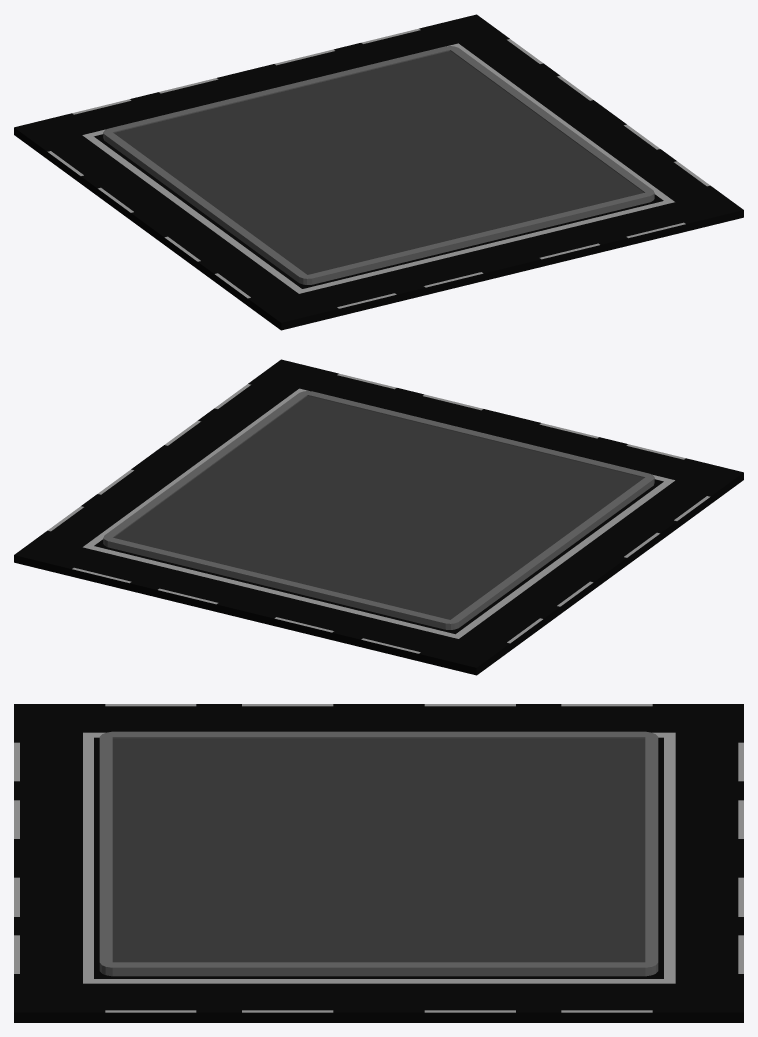
Rendered from BuildingBase.glb.
The picture shows the model from 3 angles, top to bottom: view 1: azimuth 30°, elevation 25°; view 2: azimuth 150°, elevation 25°; view 3: azimuth 270°, elevation 25°; orthographic projection. The views are drawn at different scales.
Visible parts, largest first — view 1: SideWalk-col, Street-col; view 2: SideWalk-col, Street-col; view 3: SideWalk-col, Street-col.
Boxes of the visible parts, x1,y1,x2,y2 form: SideWalk-col: [103, 46, 654, 284]; Street-col: [14, 14, 743, 330]; SideWalk-col: [103, 391, 654, 629]; Street-col: [14, 359, 743, 675]; SideWalk-col: [99, 731, 658, 976]; Street-col: [14, 704, 743, 1022].
Size of the model in its own units: 128 by 3.66 by 128.
1 material, 1 textured.
